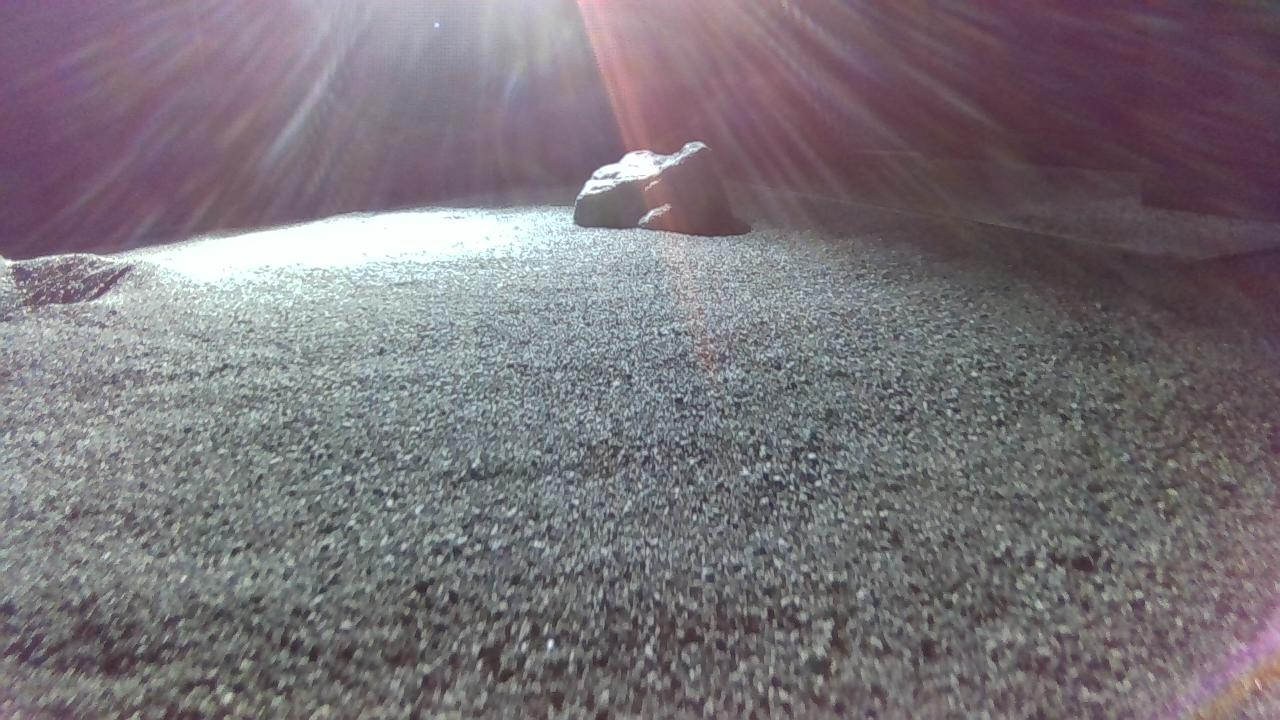rock: (575, 140, 733, 237)
